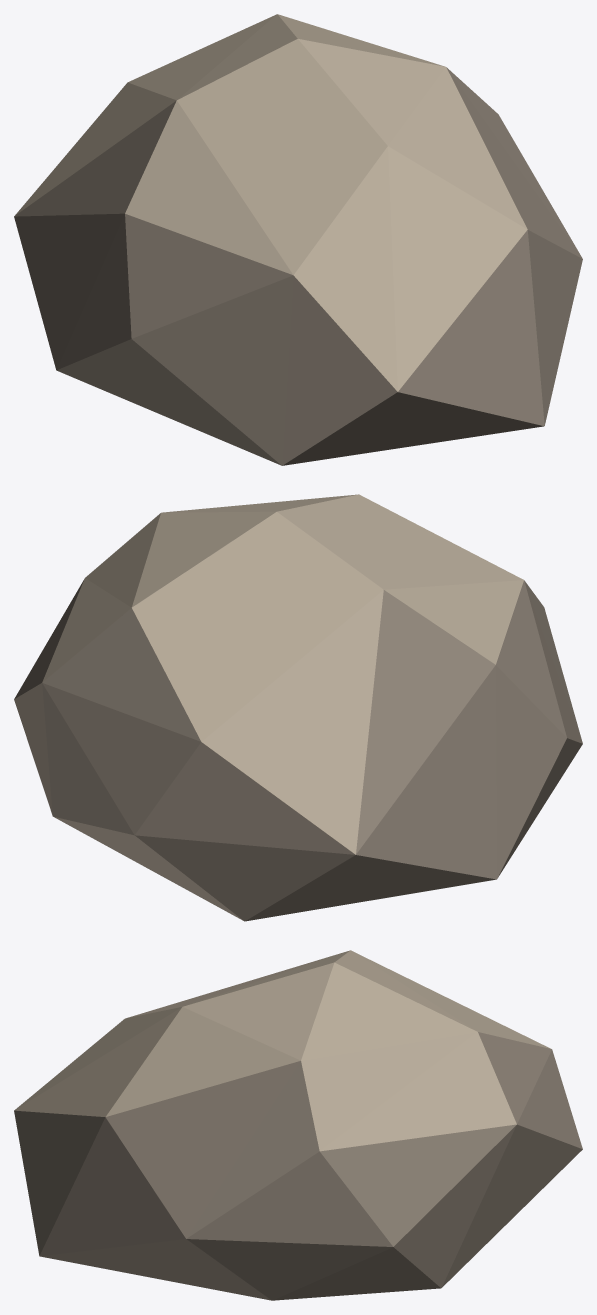
The picture shows the model from 3 angles, top to bottom: view 1: azimuth 30°, elevation 25°; view 2: azimuth 150°, elevation 25°; view 3: azimuth 270°, elevation 25°; orthographic projection. The views are drawn at different scales.
Parts seen in each view (by area): view 1: G23; view 2: G23; view 3: G23.
Part boxes in pixels (left/top/right/bottom): G23: left=14, top=14, right=582, bottom=465; G23: left=14, top=494, right=582, bottom=921; G23: left=14, top=950, right=582, bottom=1300.
Size of the model in its own units: 0.65 by 0.4 by 0.8.
